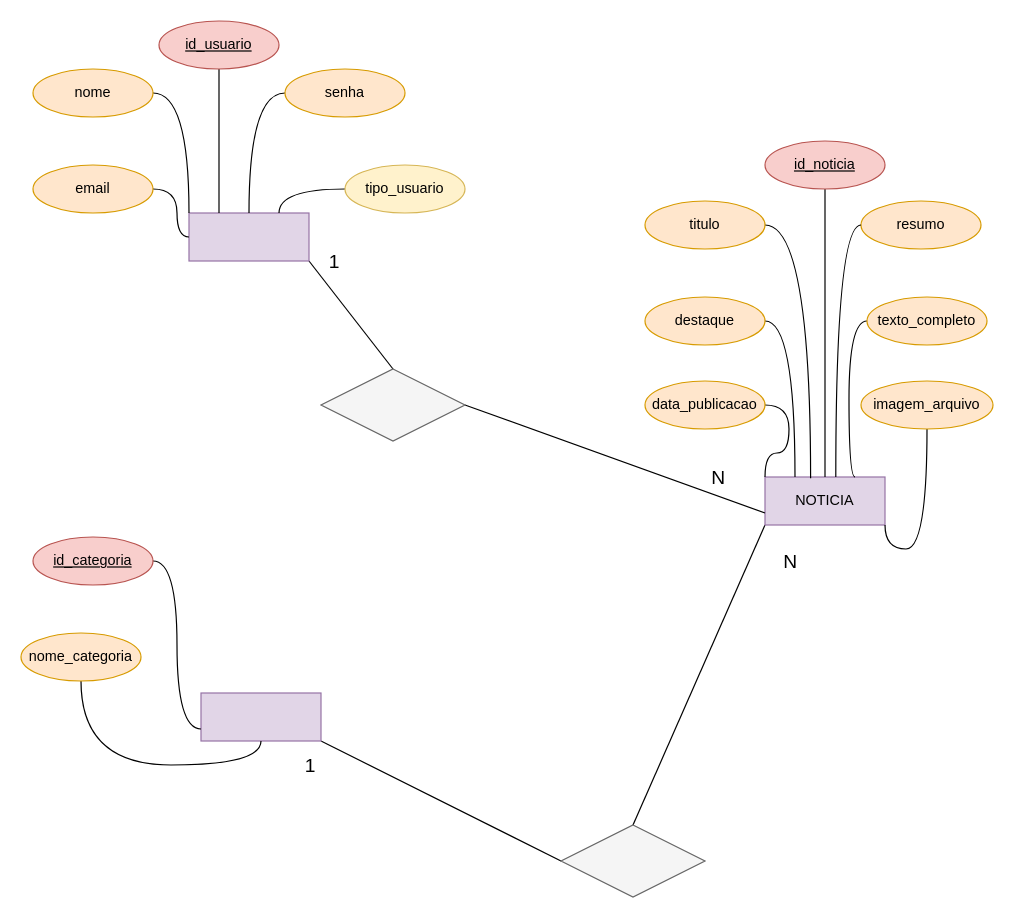
Image size: 1014x918. Some labels were removed from this diagram. Here are the shapes that lost their labels. From the top down, the box of each, then its label:
(188, 212, 309, 261): USUARIO
(320, 368, 465, 441): CADASTRA
(200, 692, 321, 741): CATEGORIA
(560, 824, 705, 897): CLASSIFICA
